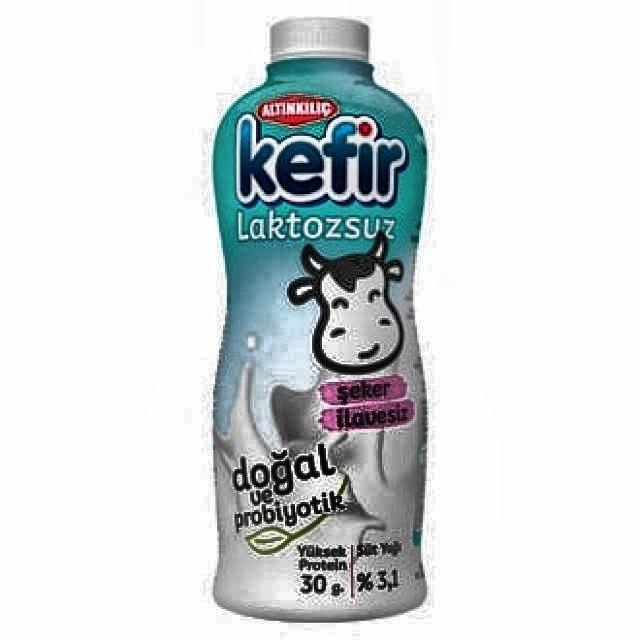plastic: (209, 16, 429, 626)
